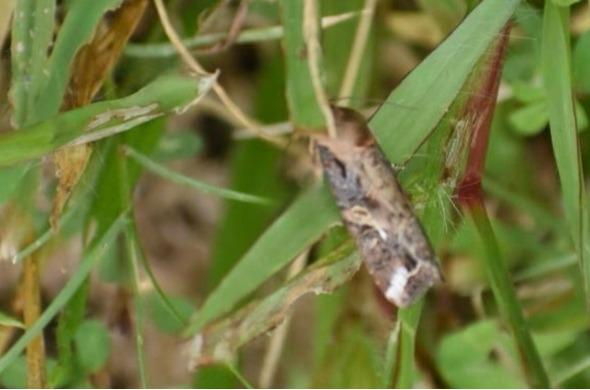army worm adult: (289, 94, 474, 327)
